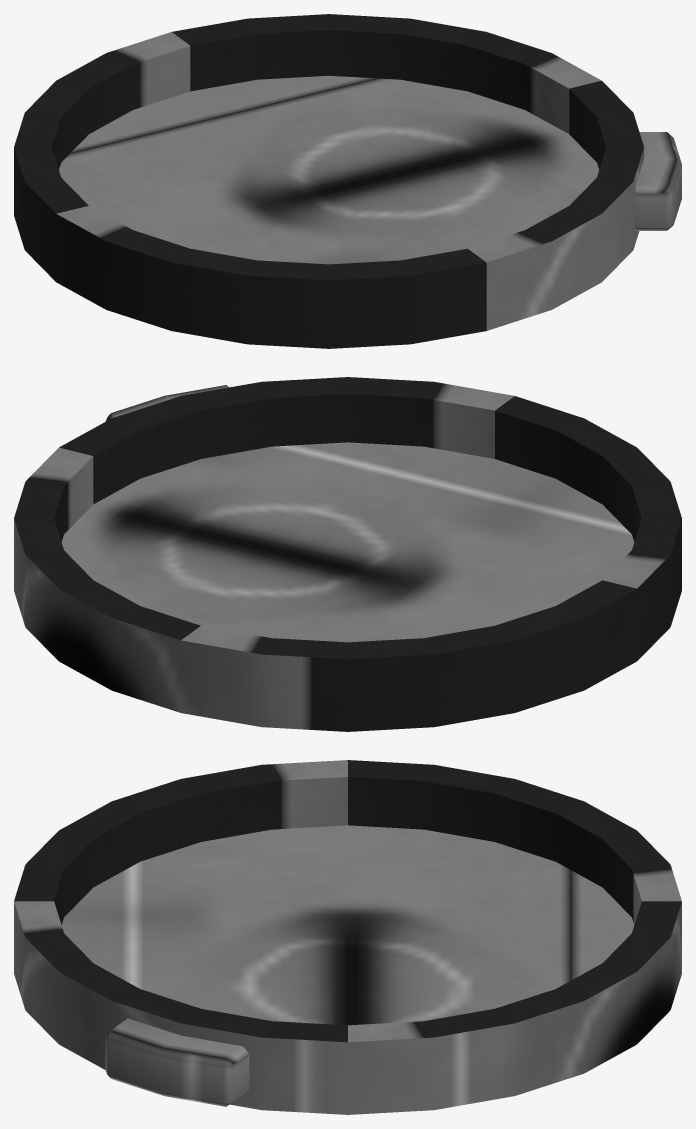
Rendered from parachute.fbx.
The picture shows the model from 3 angles, top to bottom: view 1: azimuth 30°, elevation 25°; view 2: azimuth 150°, elevation 25°; view 3: azimuth 270°, elevation 25°; orthographic projection. The views are drawn at different scales.
Parts seen in each view (by area): view 1: main; view 2: main; view 3: main.
Part boxes in pixels (box(x1,y1,x2,y2)): main: box(14, 14, 681, 348); main: box(14, 377, 681, 731); main: box(14, 760, 681, 1114).
Size of the model in its own units: 0.6397 by 0.1125 by 0.625.
